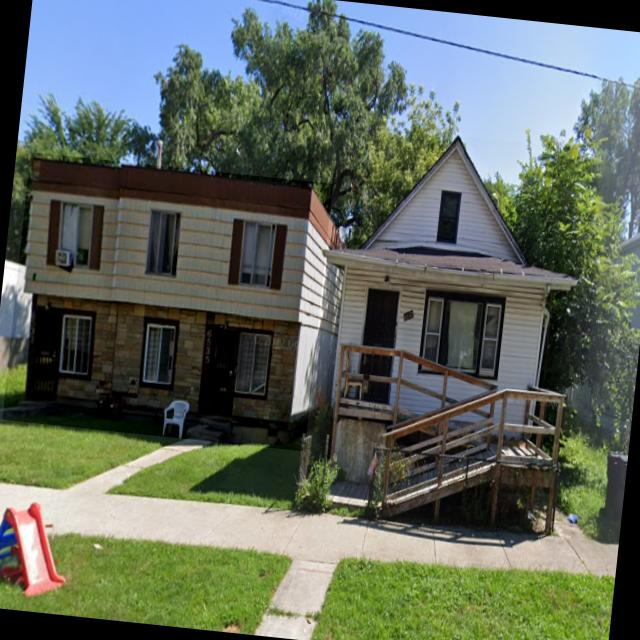House: (298, 123, 594, 542), (1, 152, 352, 453)
